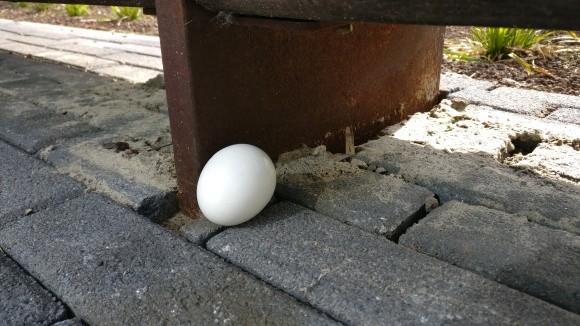egg: (196, 142, 279, 227)
